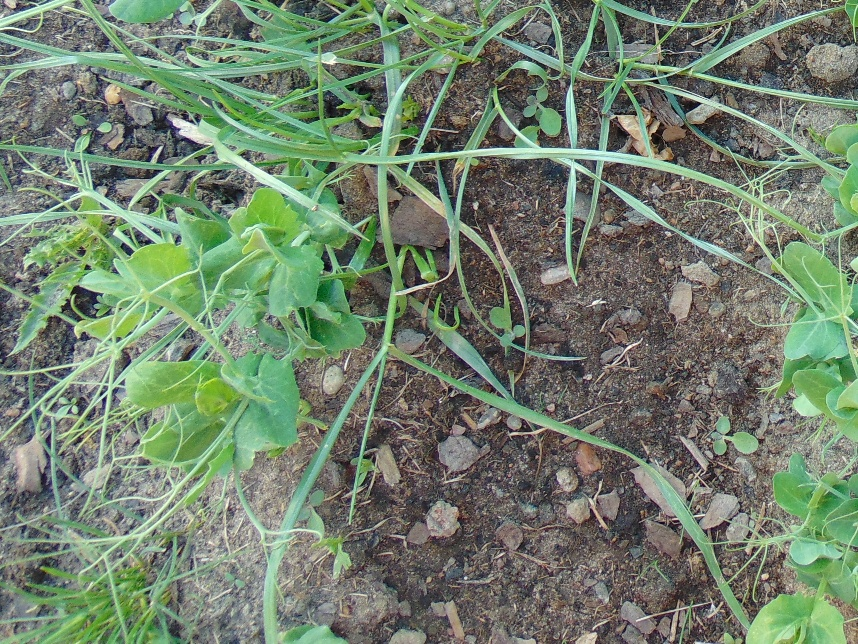crop: (57, 177, 366, 548), (734, 97, 858, 644), (1, 1, 186, 22)
weed: (232, 1, 743, 183), (1, 517, 195, 644), (3, 159, 137, 339), (207, 1, 341, 179), (710, 415, 763, 460), (67, 107, 120, 152), (523, 85, 564, 140), (489, 306, 524, 348)
